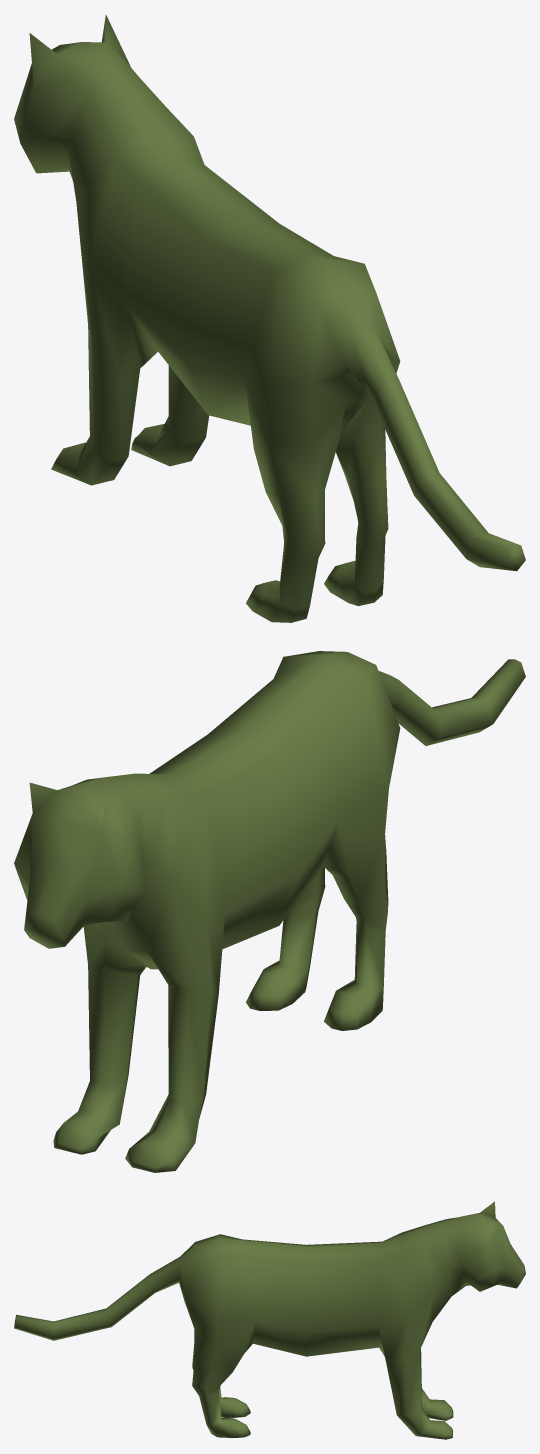
The model's file is tigerN.obj.
3 views of the same model, one above another, from view 1: azimuth 30°, elevation 25°; view 2: azimuth 150°, elevation 25°; view 3: azimuth 270°, elevation 25° (orthographic). The views are drawn at different scales.
Size of the model in its own units: 0.4584 by 1.39 by 3.04.
